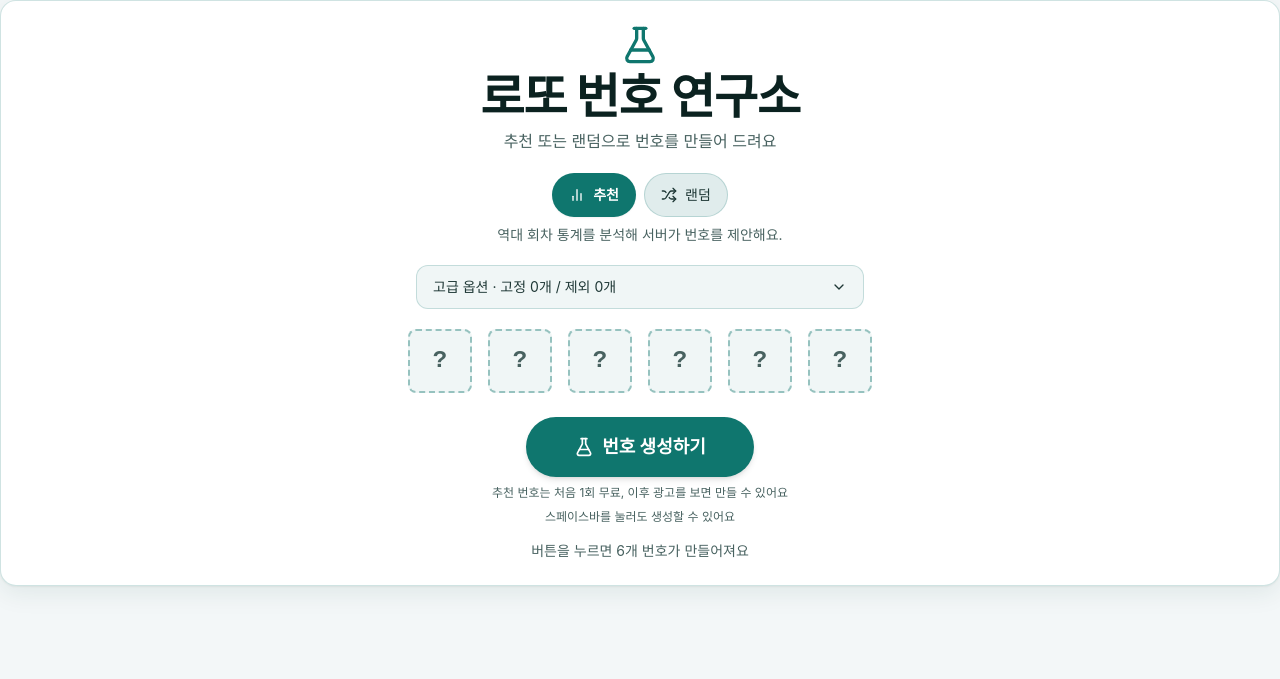
Test: Generator › 200 응답이어도 추천 형식이 잘못되면(빈 객체) 랜덤으로 대체하고 안내한다
Click the button "번호 생성하기".
click(640, 447)  # box [526,417,754,477]
Wait 5000 ms
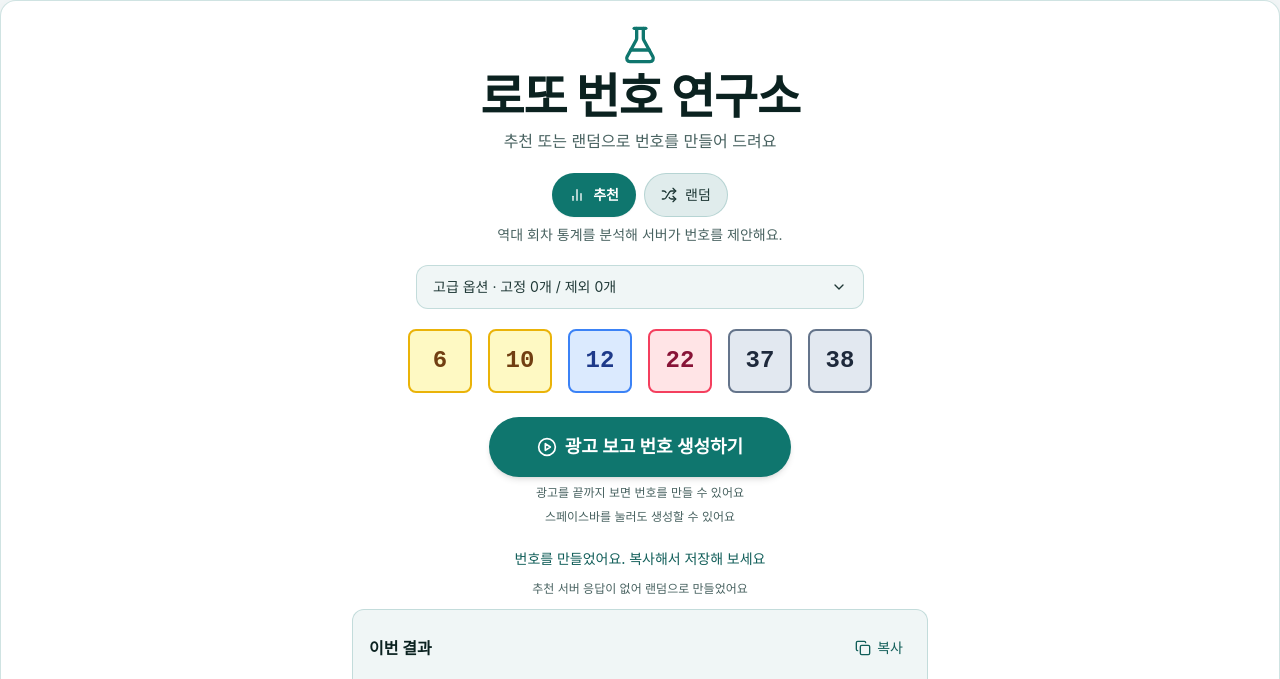
Result: the text "번호를 만들었어요. 복사해서 저장해 보세요" is shown at [515,550,766,567]
Result: the text "추천 서버 응답이 없어 랜덤으로 만들었어요" is shown at [532,581,748,596]
